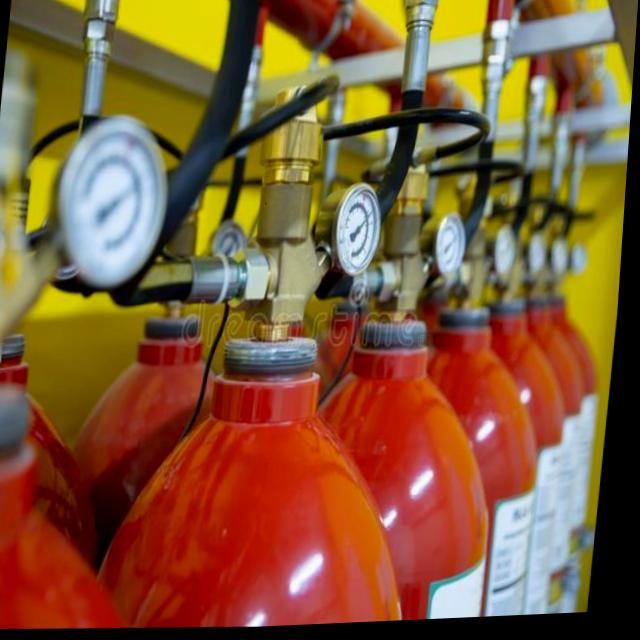FireExtinguisher: (85, 66, 477, 636), (243, 123, 540, 630), (322, 197, 573, 628)
